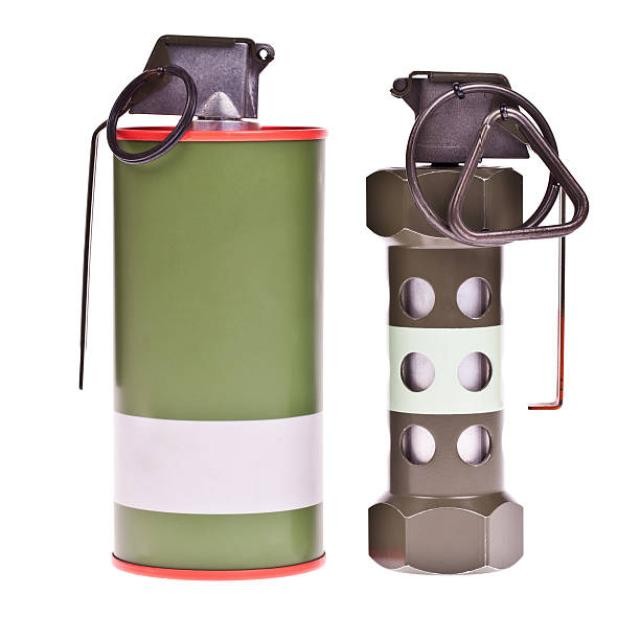grenade: (67, 28, 351, 584), (359, 65, 597, 583)
